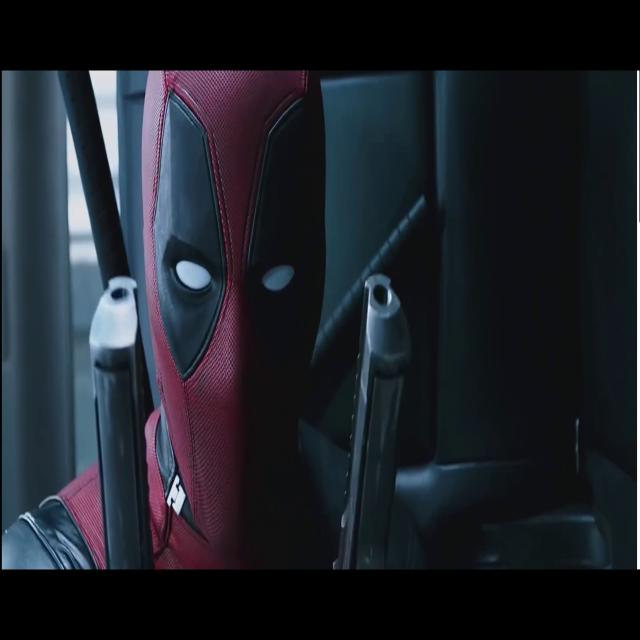weapons: (315, 219, 424, 572), (74, 228, 168, 572)
